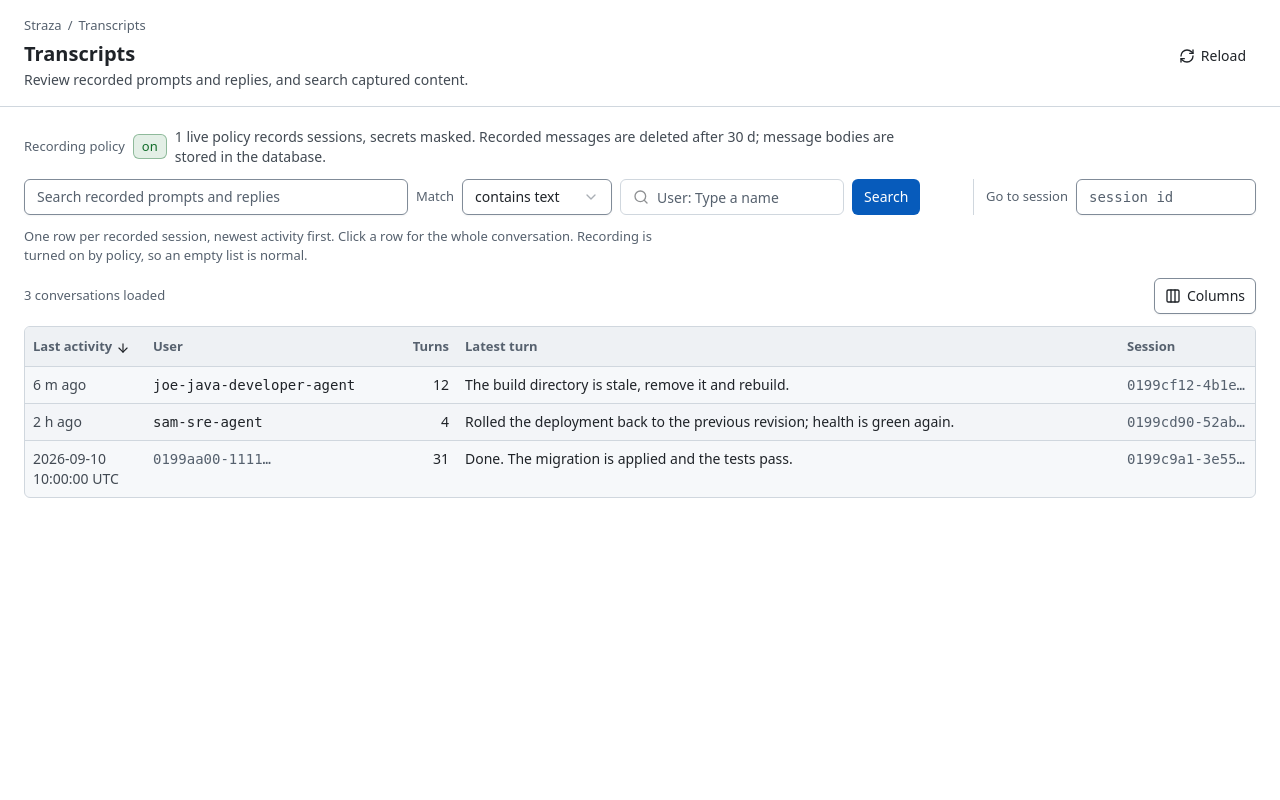
Test: the transcripts screen › keeps the rows on screen when a reload cannot reach strazad
Click the button with aria-label "Reload the list" at {"x": 1212, "y": 56}, box [1169,40,1256,72]
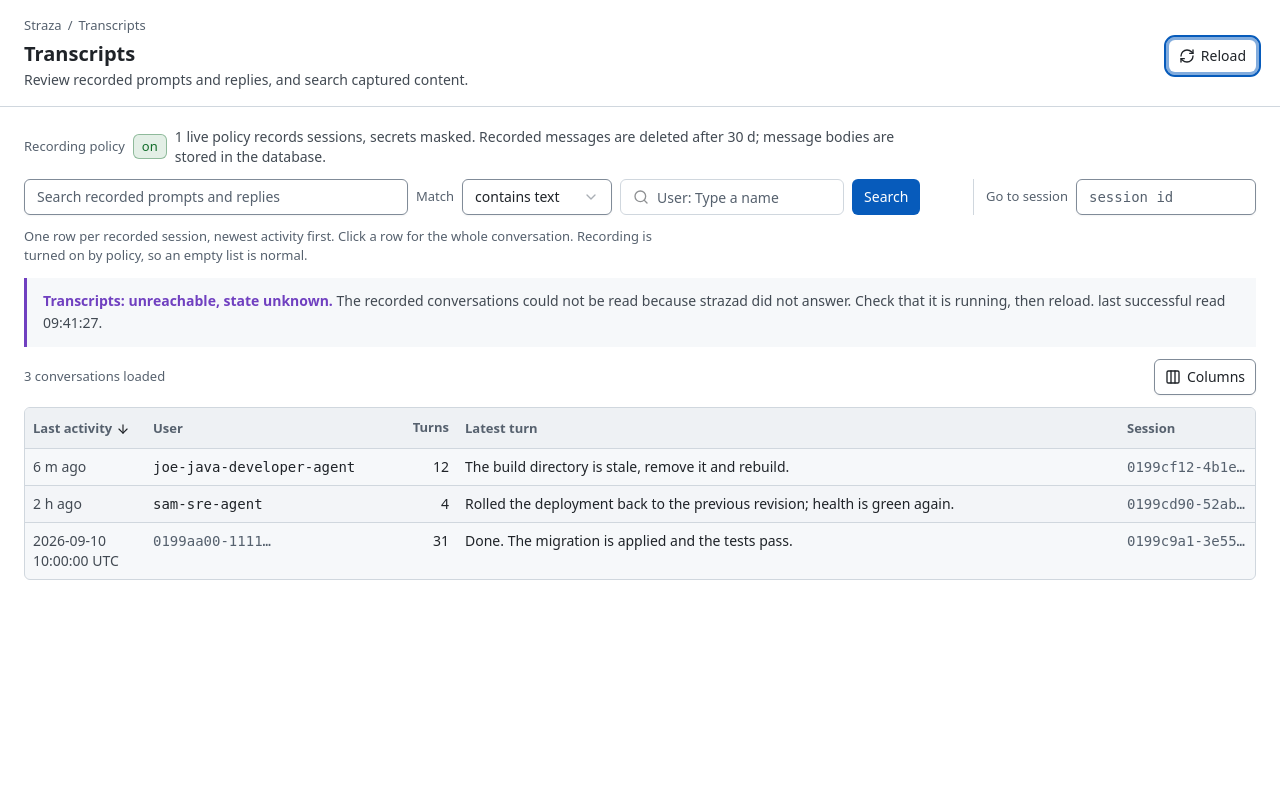
Result: the message shows "Transcripts: unreachable, state unknown." at [43,290,333,310]
Result: the message shows "The recorded conversations could not be read because strazad did not answer. Check that it is running, then reload." at [336,290,1094,310]
